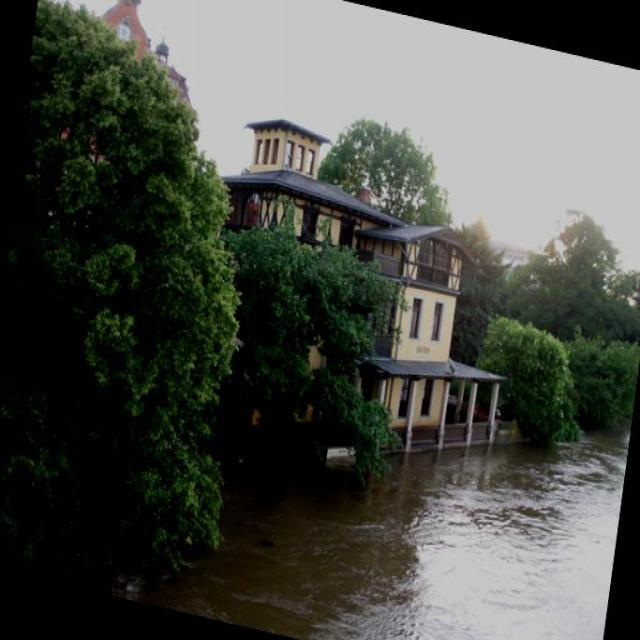flood: (158, 350, 628, 639)
